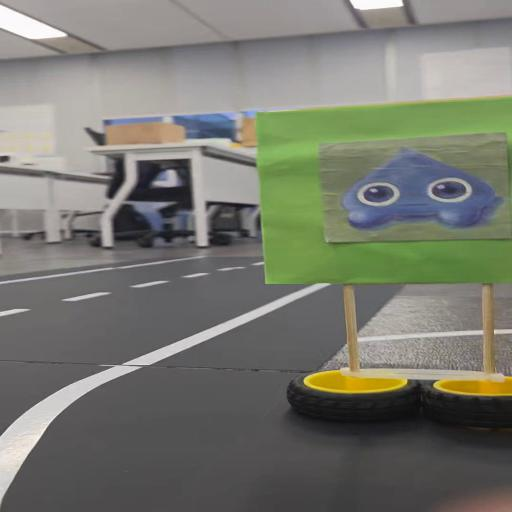Sign_B: (249, 106, 512, 428)
